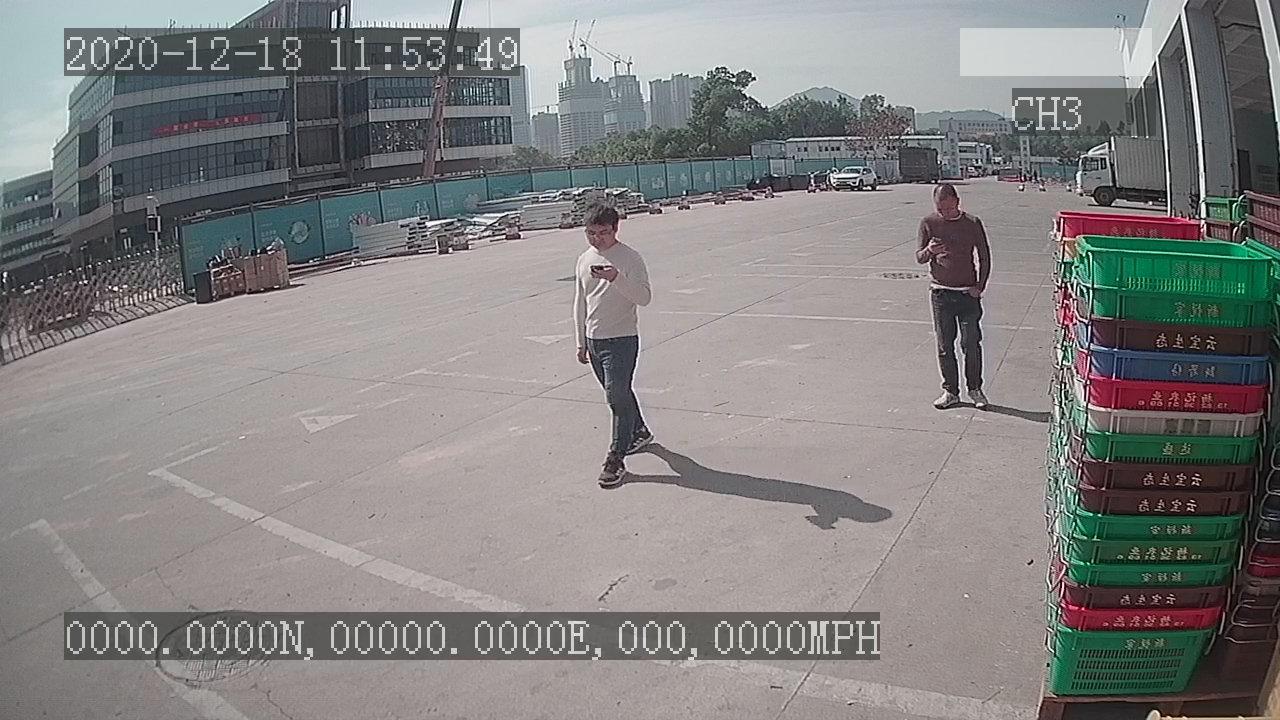person: (554, 199, 670, 506), (906, 176, 1006, 422)
